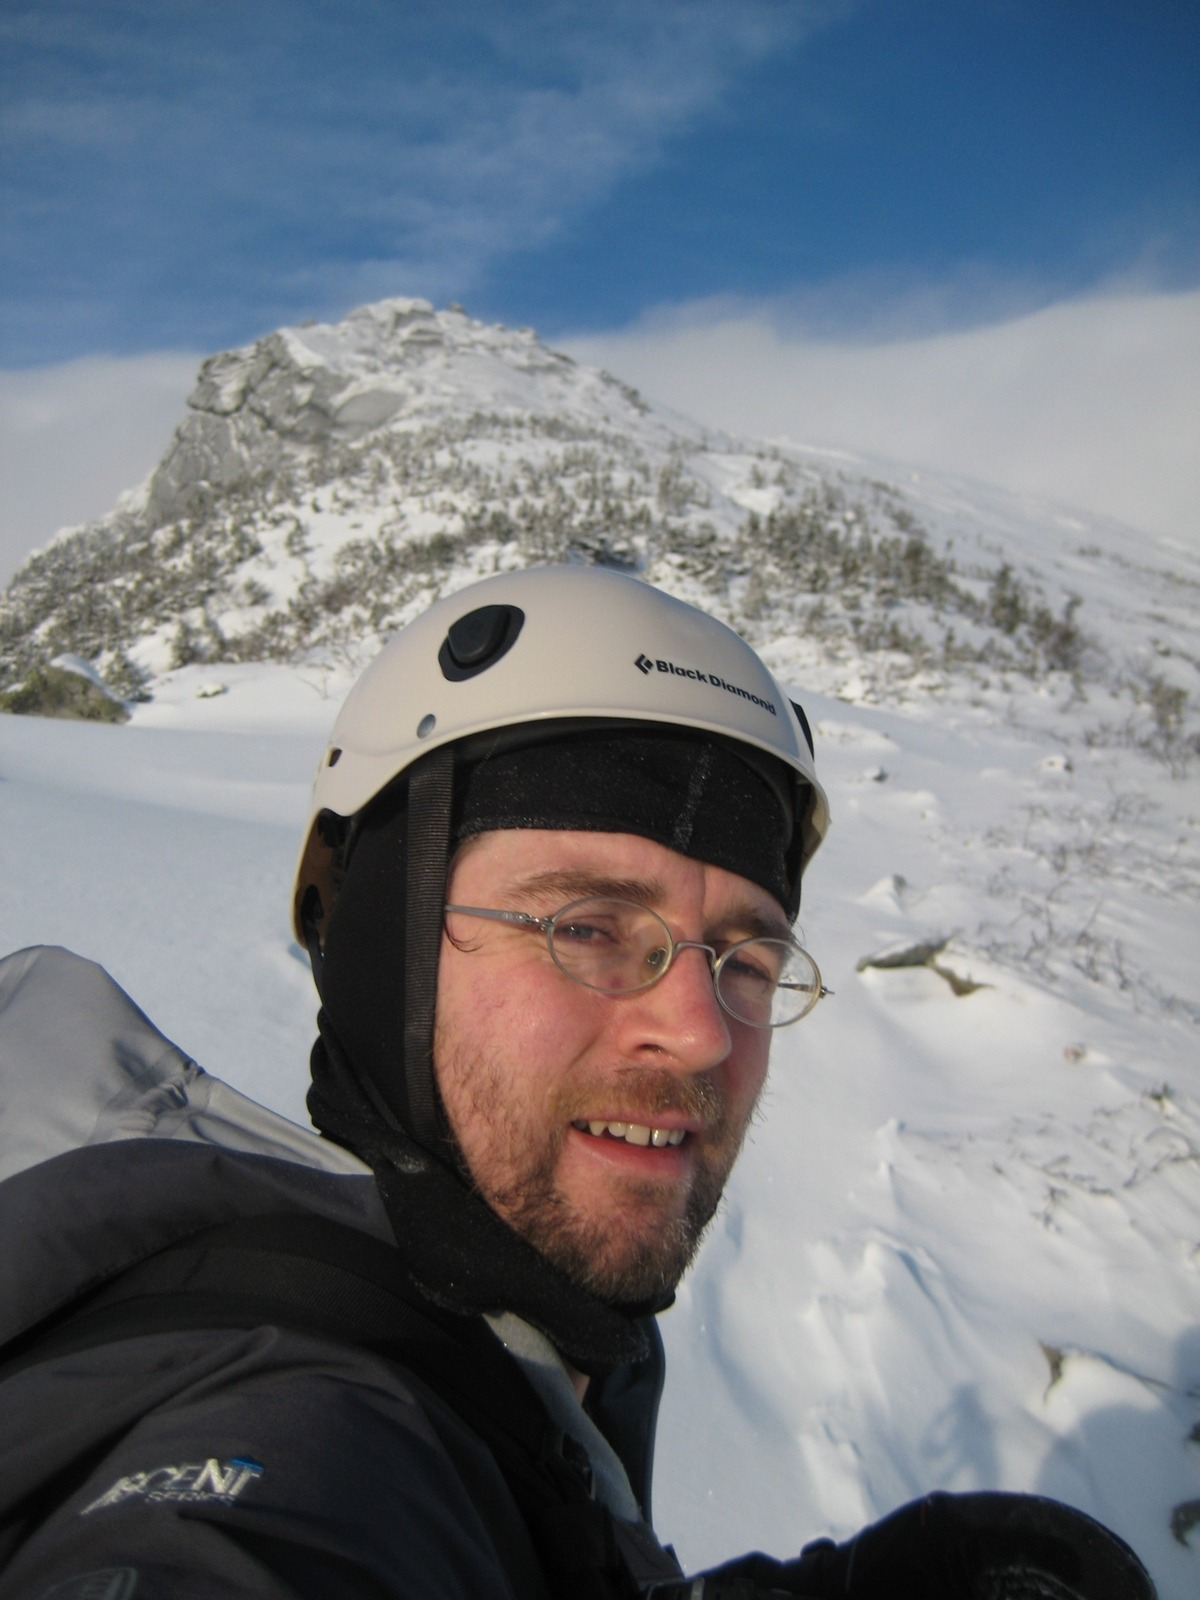helmet: (276, 551, 847, 970)
